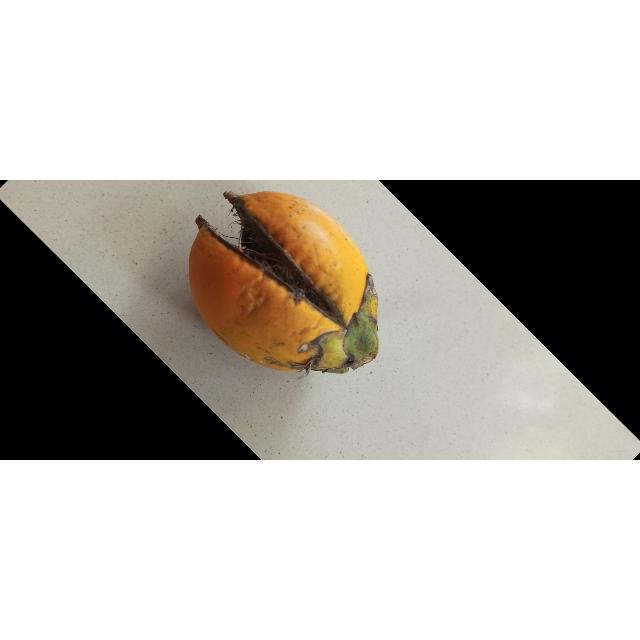damaged: (188, 191, 380, 375)
